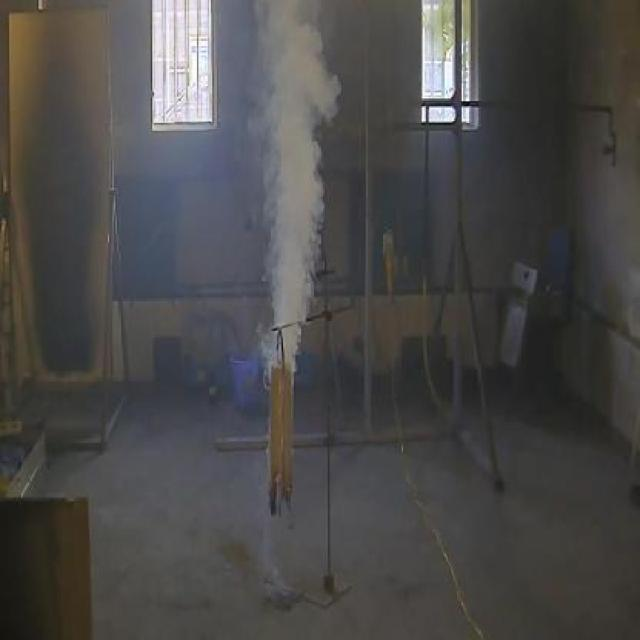fire: (244, 0, 349, 338)
